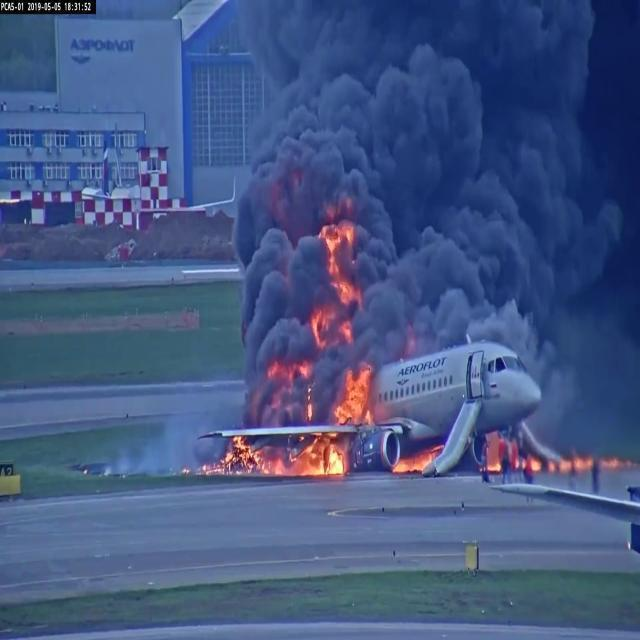Fire: (252, 439, 344, 475)
Smoke: (389, 127, 576, 347), (373, 56, 488, 227), (250, 140, 325, 366)
